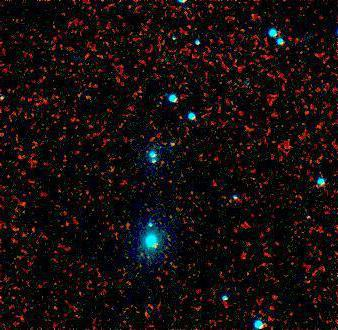star: (132, 134, 162, 164)
